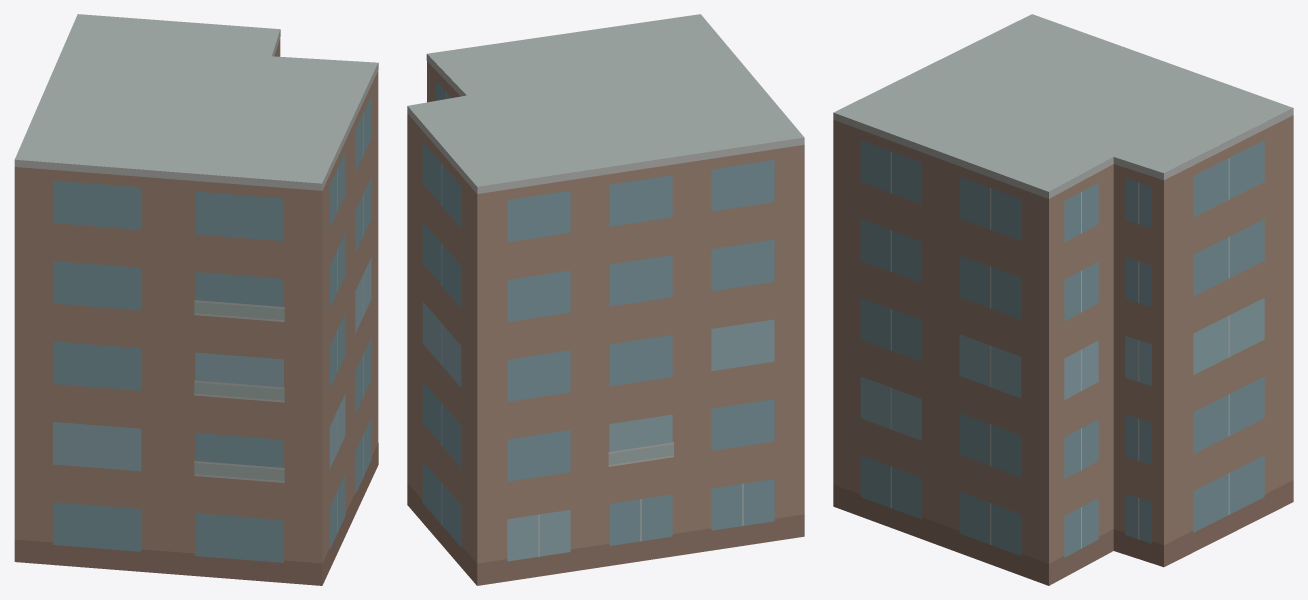
Rendered from survey-upis-32879931.glb.
3 renders of one model, left to right at view 1: azimuth 30°, elevation 25°; view 2: azimuth 150°, elevation 25°; view 3: azimuth 270°, elevation 25°, orthographic. The views are drawn at different scales.
Parts seen in each view (by area): view 1: survey-upis-32879931.tmp; view 2: survey-upis-32879931.tmp; view 3: survey-upis-32879931.tmp.
Boxes of the visible parts, x1=… form: survey-upis-32879931.tmp: x1=14, y1=14, x2=378, y2=585; survey-upis-32879931.tmp: x1=407, y1=14, x2=804, y2=585; survey-upis-32879931.tmp: x1=833, y1=14, x2=1293, y2=585.
Bounding box in the file's own units: 13.18 × 13.6 × 14.41.
